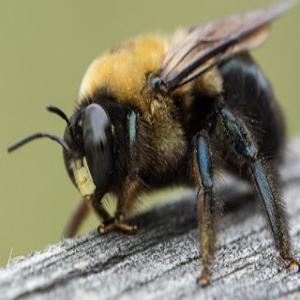bee: (7, 1, 299, 287)
